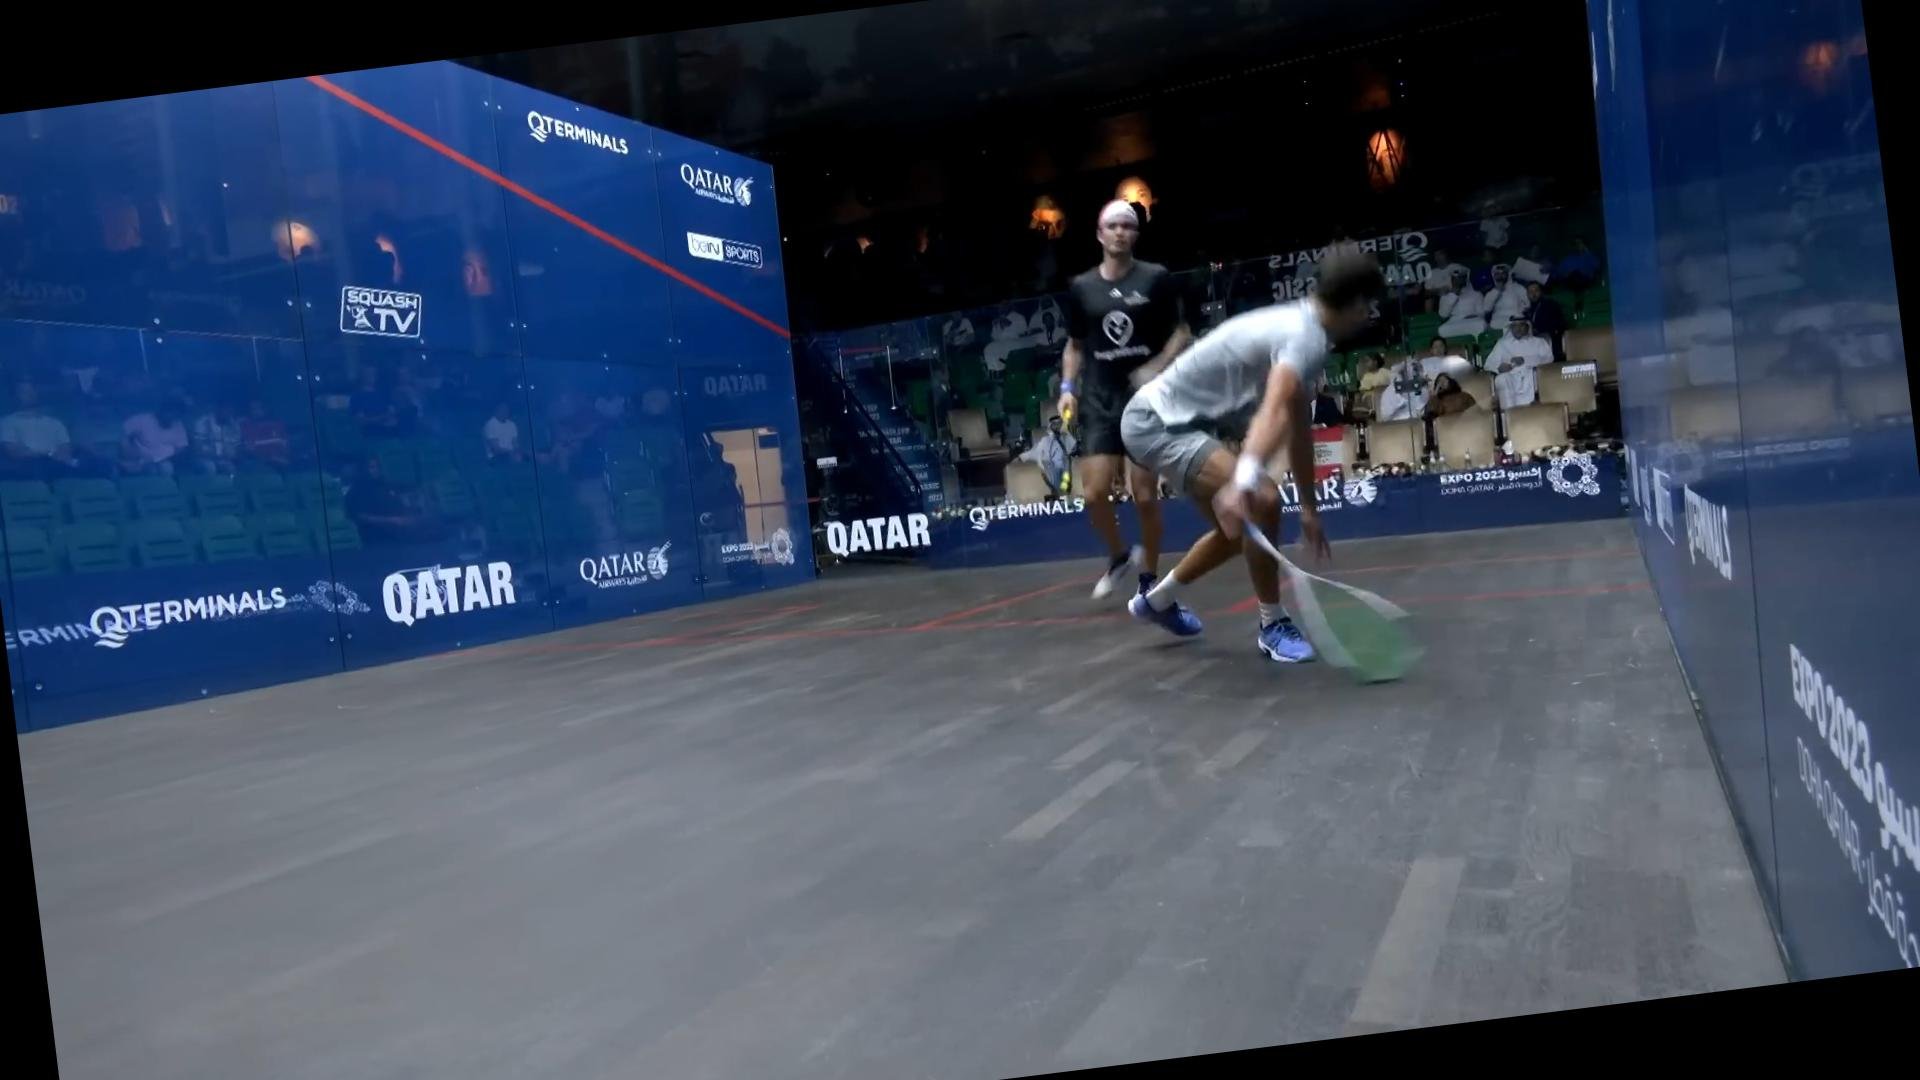Racket: (1244, 496, 1437, 703)
